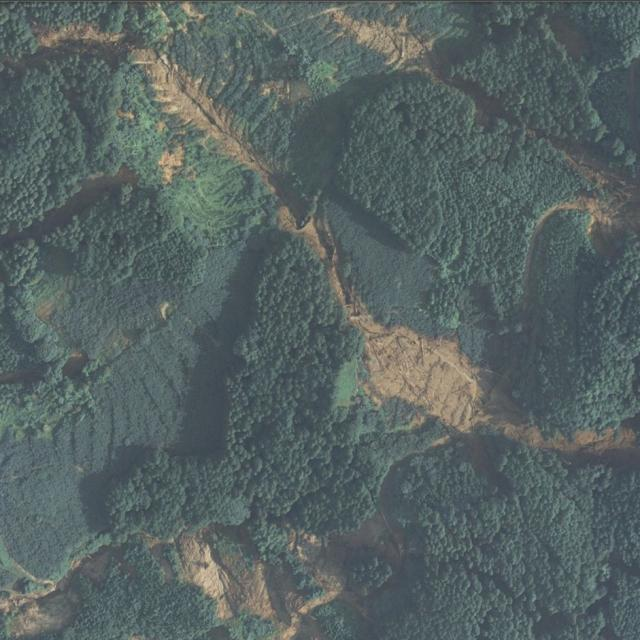landslide: (39, 30, 638, 454), (148, 516, 400, 640), (331, 10, 431, 73), (541, 174, 637, 238), (0, 564, 80, 639), (46, 168, 137, 227)
